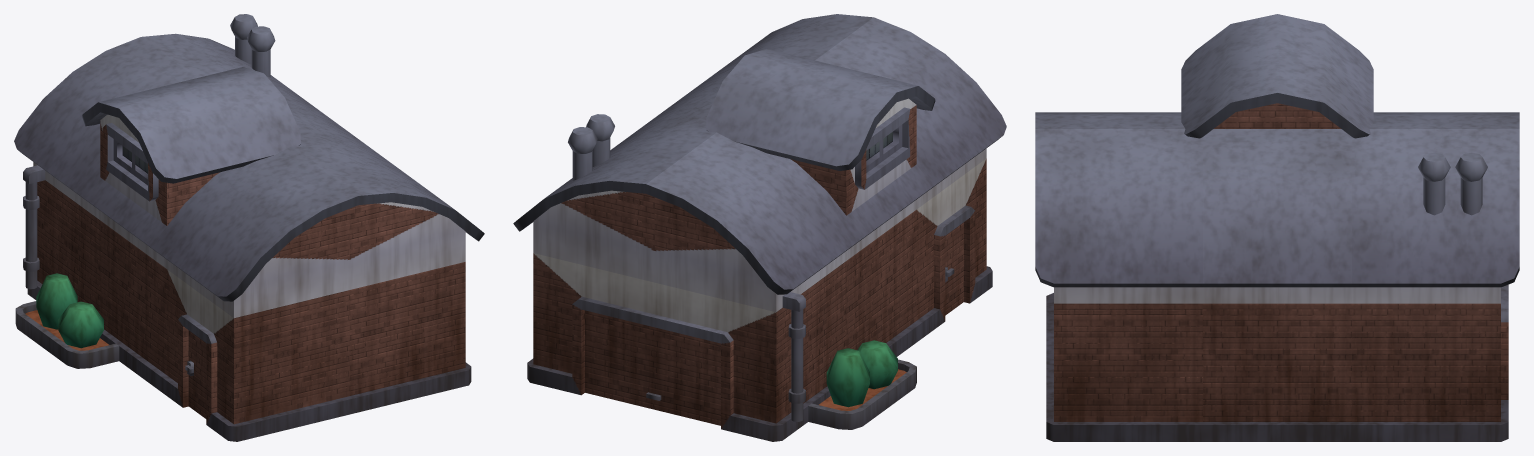
File: building-j-brown.glb
3 renders of one model, left to right at view 1: azimuth 30°, elevation 25°; view 2: azimuth 150°, elevation 25°; view 3: azimuth 270°, elevation 25°, orthographic. The views are drawn at different scales.
Visible parts, largest first — view 1: building-j; view 2: building-j; view 3: building-j.
Boxes of the visible parts, x1,y1,x2,y2 form: building-j: (14,14,484,441); building-j: (513,14,1006,441); building-j: (1035,14,1519,441).
Bounding box in the file's own units: 1.03 × 0.8611 × 1.3.
Materials: 1 (1 with a texture image).
